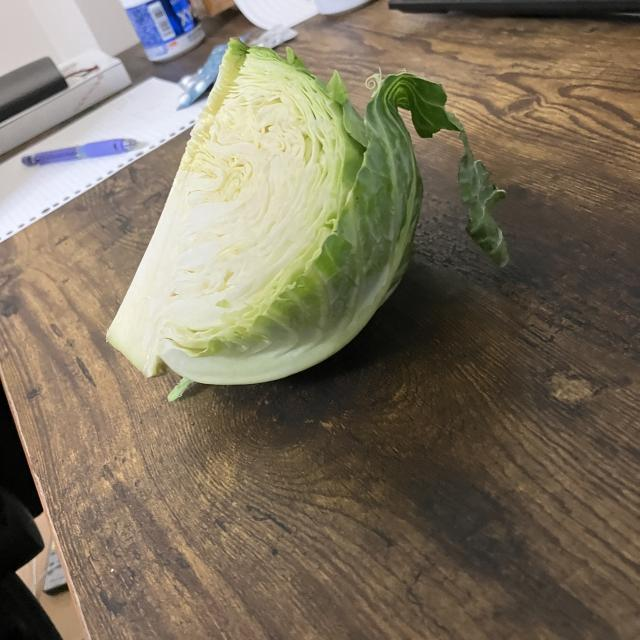cabbage: (100, 32, 516, 404)
